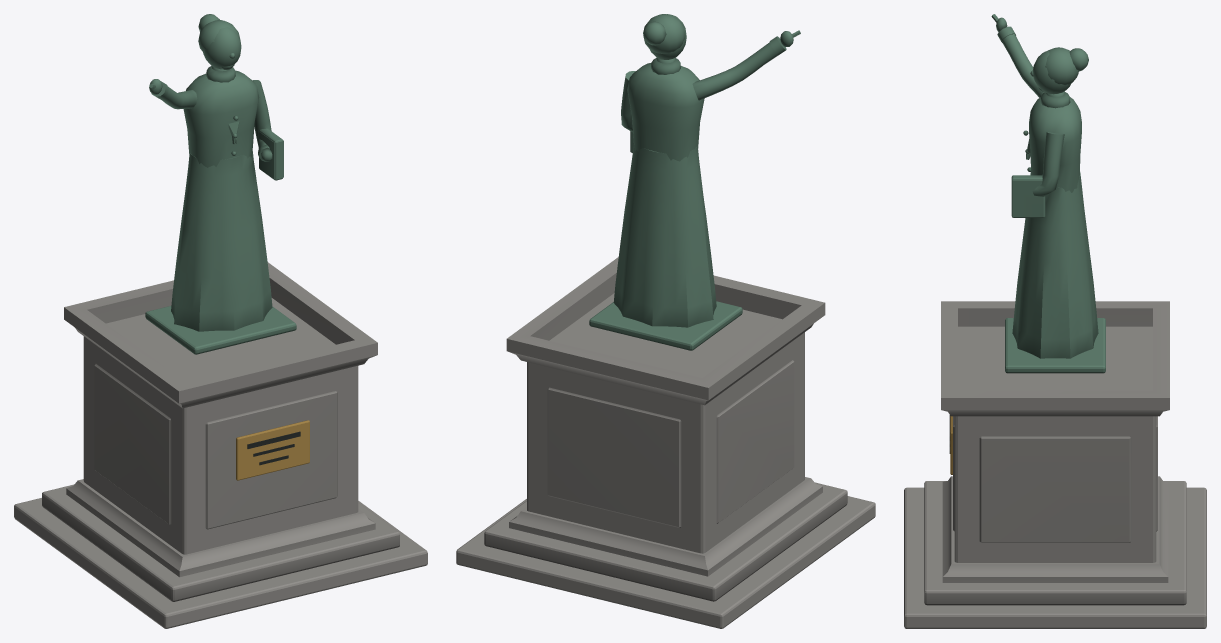
Rendered from townStatue.glb.
3 views of the same model, side by side, from view 1: azimuth 30°, elevation 25°; view 2: azimuth 150°, elevation 25°; view 3: azimuth 270°, elevation 25° (orthographic).
Visible parts, largest first — view 1: townStatue; view 2: townStatue; view 3: townStatue.
Part boxes in pixels (x1,y1,x2,y2): townStatue: [14, 14, 427, 628]; townStatue: [456, 14, 875, 628]; townStatue: [904, 14, 1206, 628].
Bounding box in the file's own units: 1.8 × 3.39 × 1.8.
